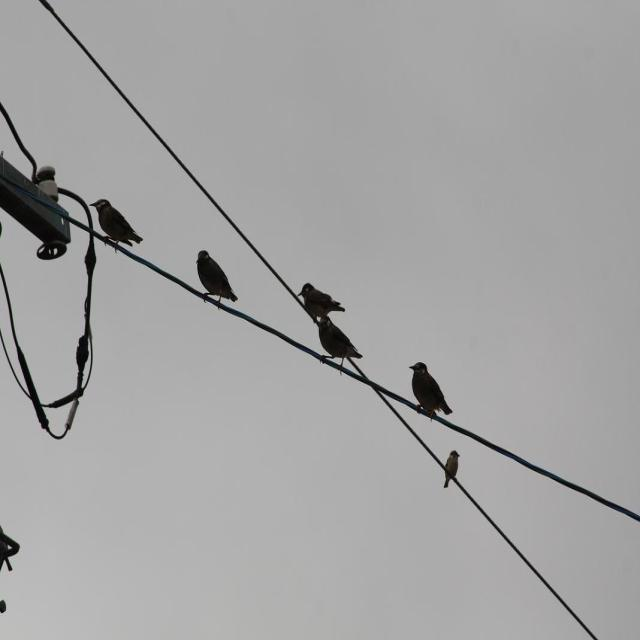bird: (406, 365, 454, 429), (314, 320, 366, 372), (197, 250, 240, 312), (96, 204, 146, 255), (298, 282, 347, 321), (441, 451, 461, 492)
